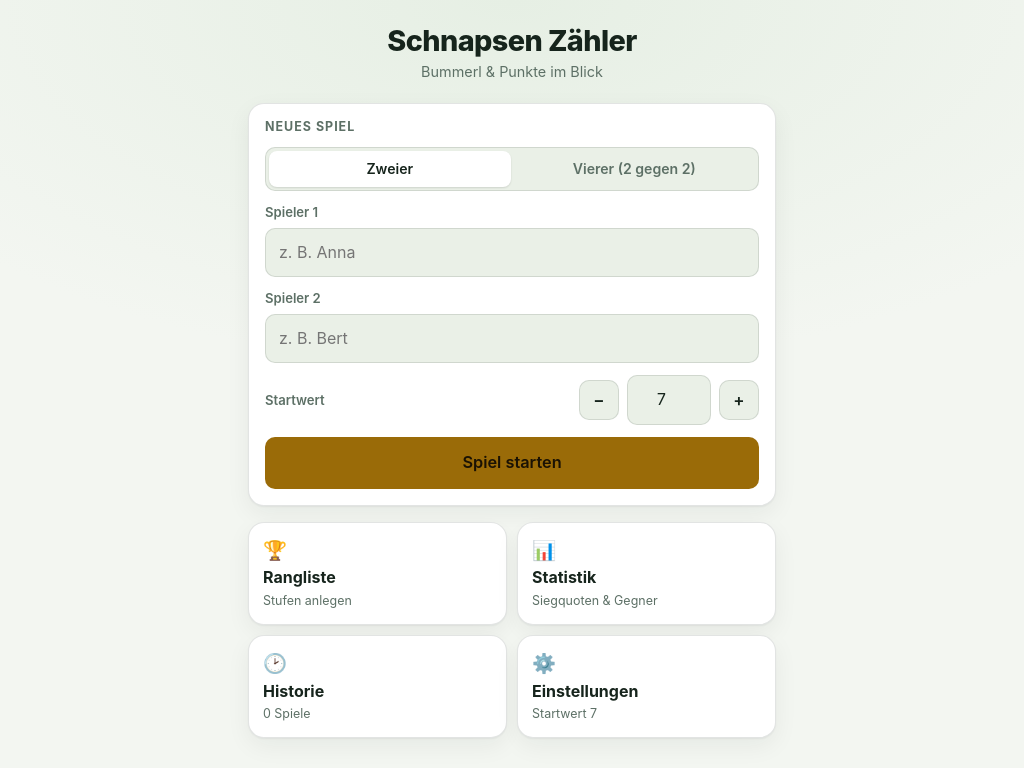
Scenario: App › zählt ein komplettes Bummerl herunter und schreibt es gut
Type "Anna" into the field labelled "Spieler 1". click: (512, 253)
box: top-left (265, 228), bottom-right (759, 277)
Type "Bert" into the field labelled "Spieler 2". click: (512, 339)
box: top-left (265, 314), bottom-right (759, 364)
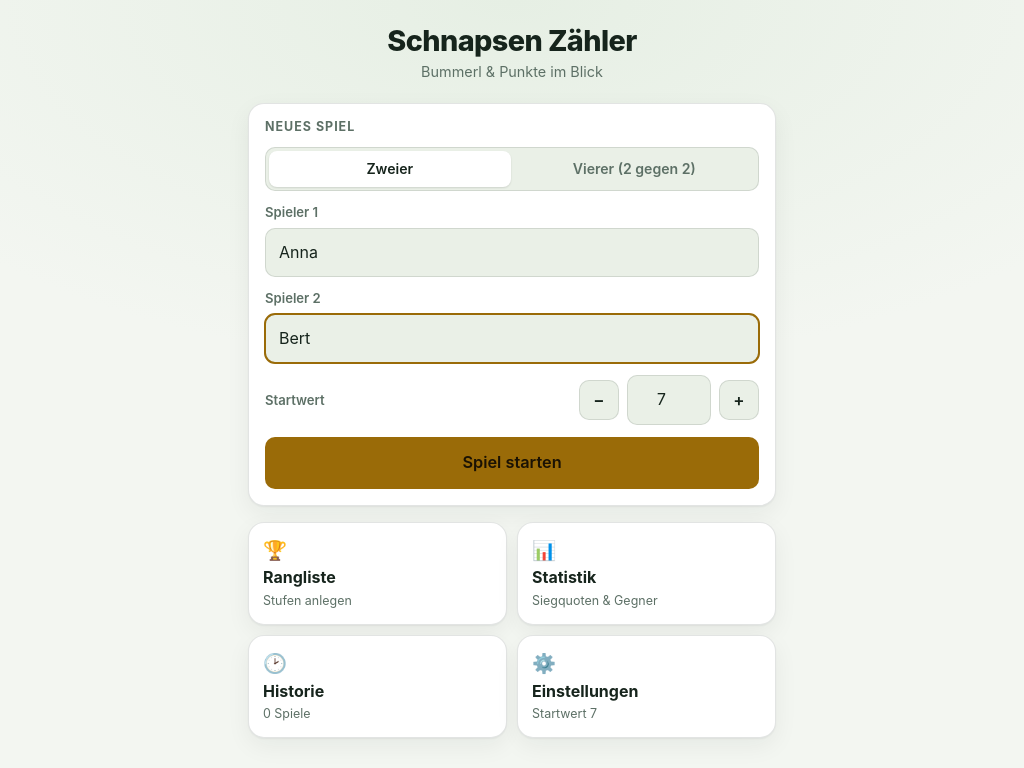
Click the button "Spiel starten". click: (512, 463)
box: top-left (265, 437), bottom-right (759, 489)
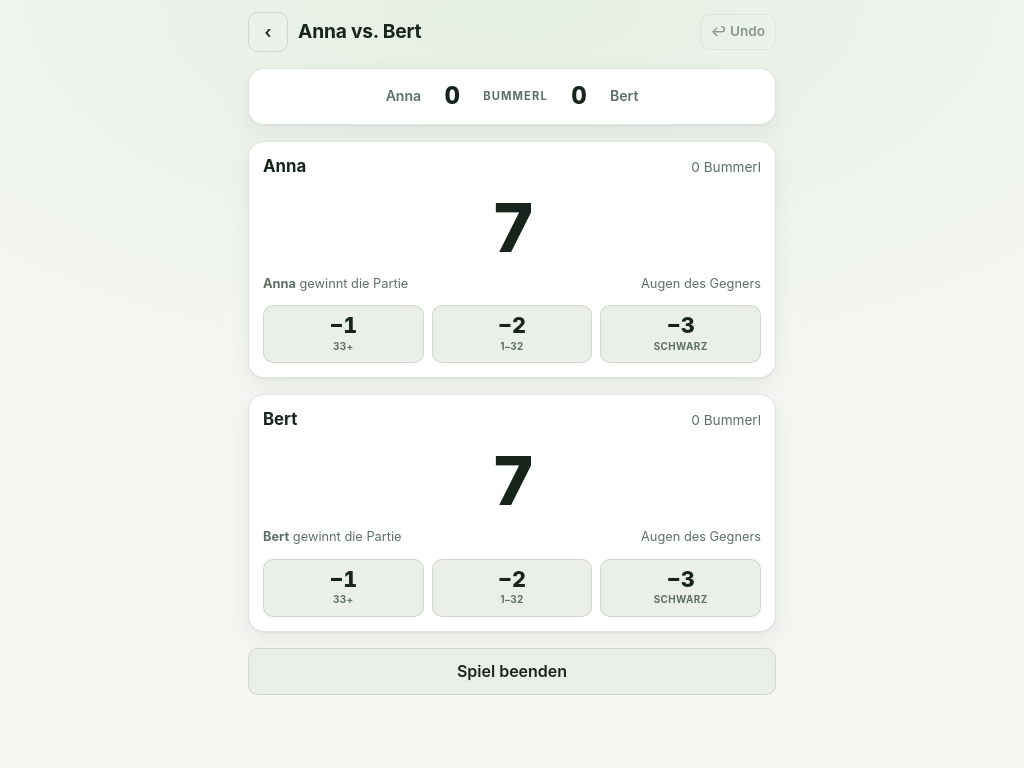
Check: the heading "Anna vs. Bert" is shown, box top-left (298, 20), bottom-right (421, 44)
Click the 1st button "−3 schwarz". click: (681, 334)
box: top-left (600, 305), bottom-right (761, 363)
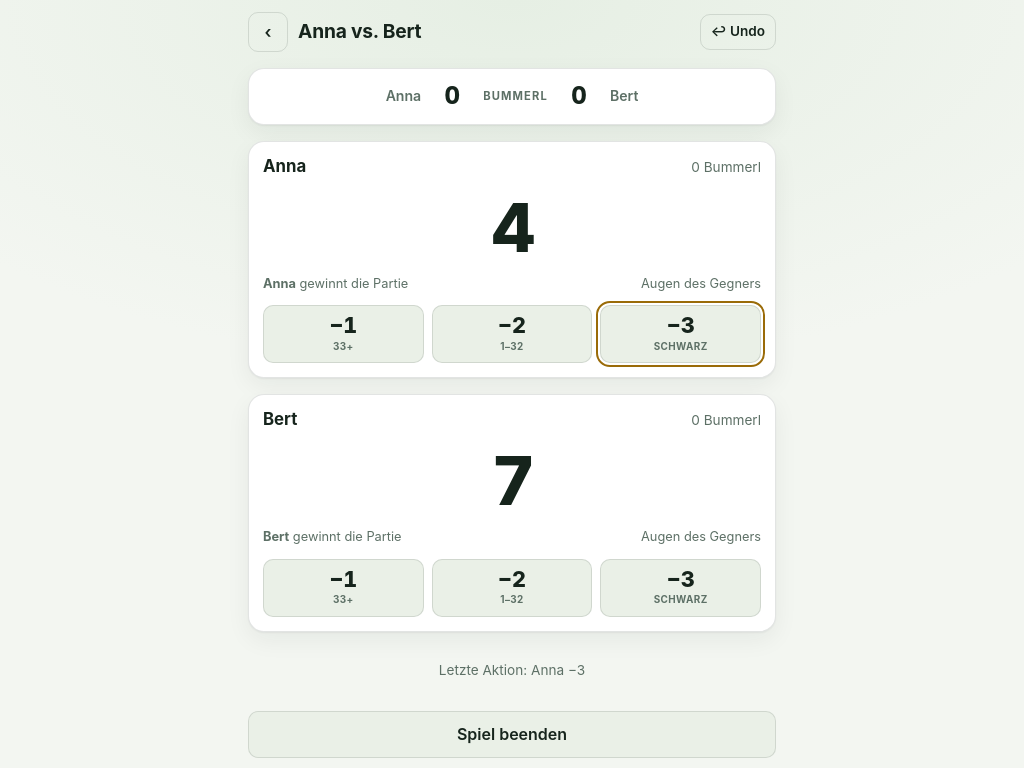
Click the 1st button "−2 1–32". click: (512, 334)
box: top-left (432, 305), bottom-right (592, 363)
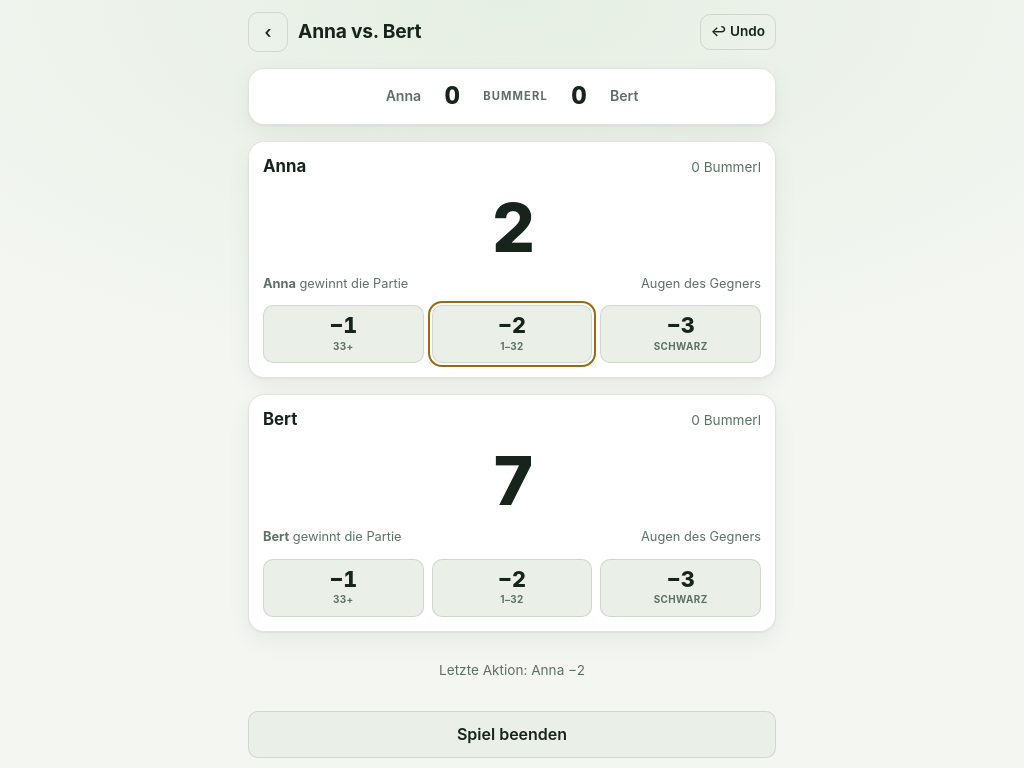
Click the 1st button "−3 schwarz". click: (681, 334)
box: top-left (600, 305), bottom-right (761, 363)
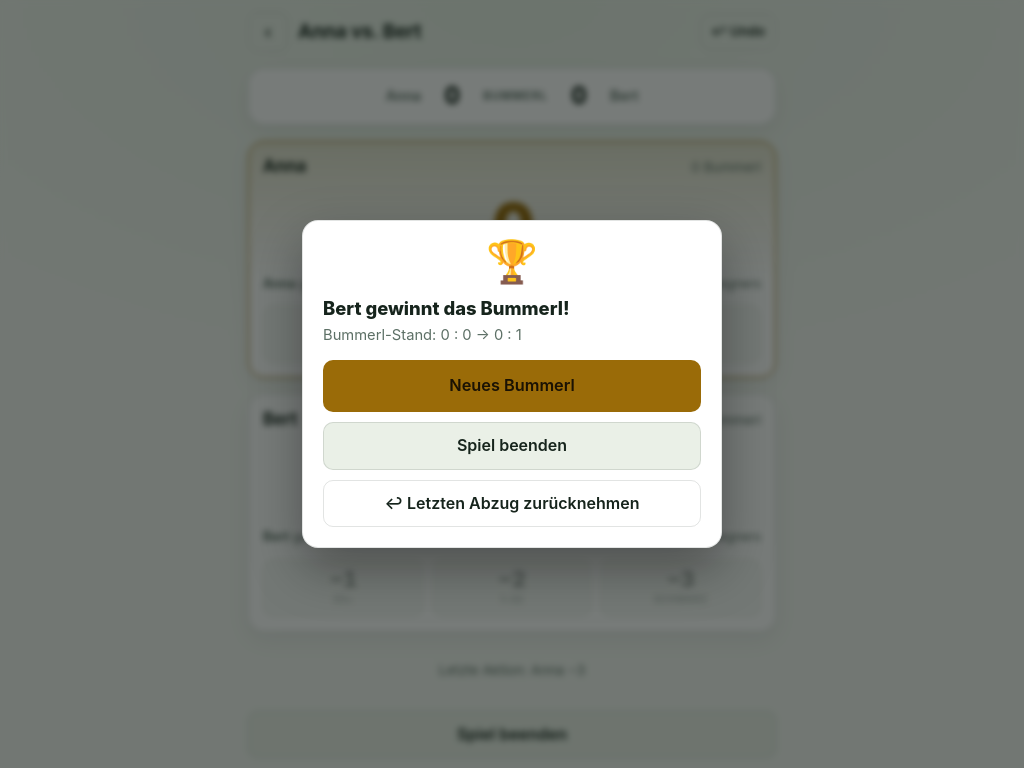
Check: the heading "Bert gewinnt das Bummerl!" is shown, box top-left (323, 297), bottom-right (570, 319)
Click the button "Neues Bummerl". click: (512, 386)
box: top-left (323, 360), bottom-right (701, 412)
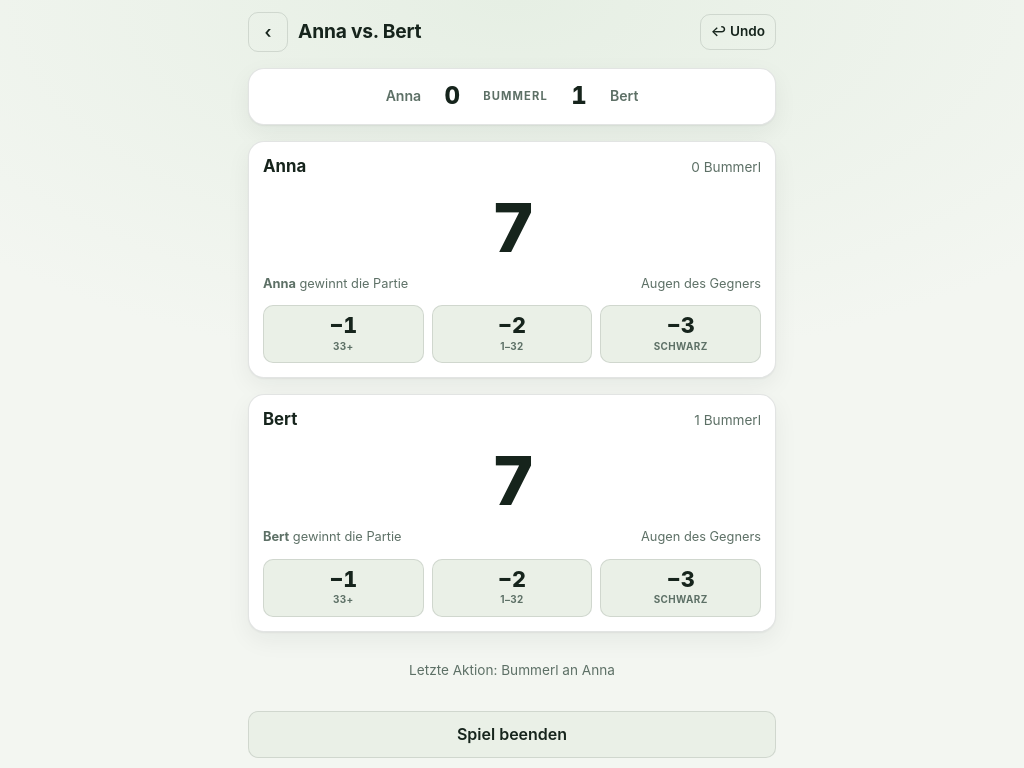
Check: the dialog is gone
Check: the text "1 Bummerl" is shown, box top-left (694, 411), bottom-right (761, 431)
